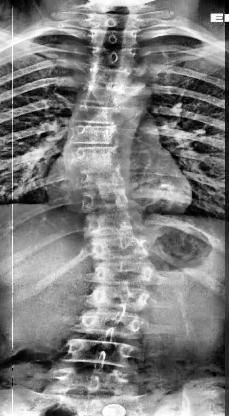Vertebrae: (65, 340, 138, 370), (75, 312, 144, 338), (89, 286, 158, 312), (90, 235, 154, 263), (63, 122, 119, 150), (85, 213, 146, 237), (82, 189, 138, 215), (93, 262, 158, 284), (66, 143, 119, 169), (84, 80, 136, 104), (74, 168, 128, 191), (71, 104, 121, 126), (89, 26, 138, 48), (89, 44, 138, 64), (86, 62, 130, 82)
